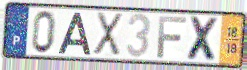0: (30, 9, 58, 56)
3: (125, 12, 155, 61)
A: (56, 12, 93, 56)
F: (156, 15, 188, 60)
X: (186, 14, 221, 63), (91, 11, 125, 59)
